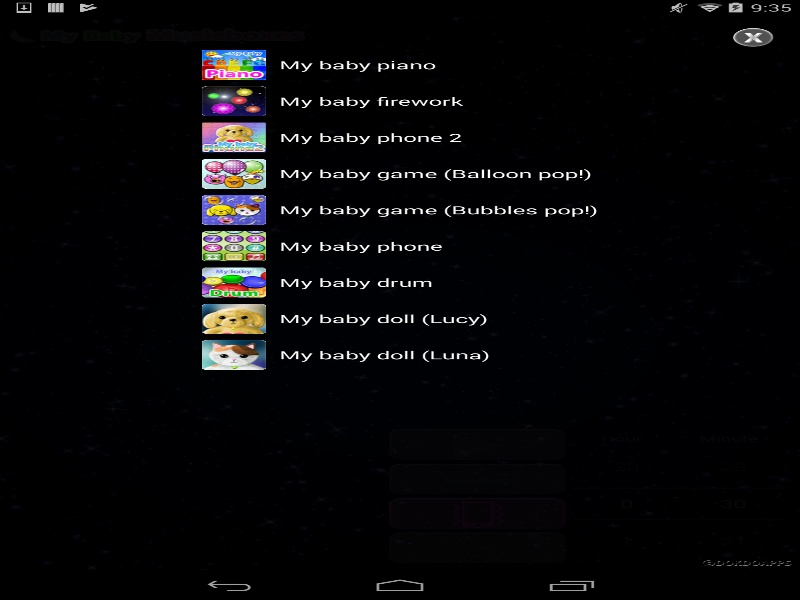Button: (389, 463, 566, 495), (573, 518, 680, 560), (680, 518, 786, 560), (573, 447, 680, 488), (680, 447, 786, 488), (733, 28, 773, 46)
Input: (573, 488, 680, 518), (680, 488, 786, 518)
